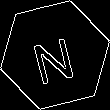N_N: (29, 26, 81, 84)
